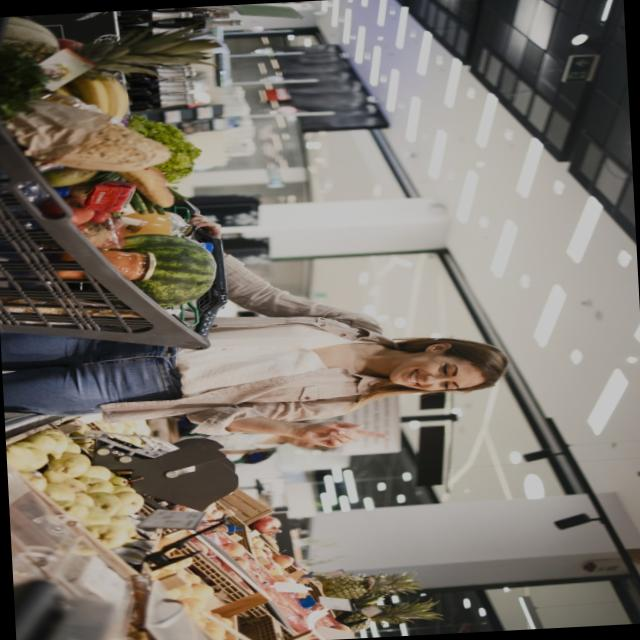mate bag: (83, 180, 139, 214)
